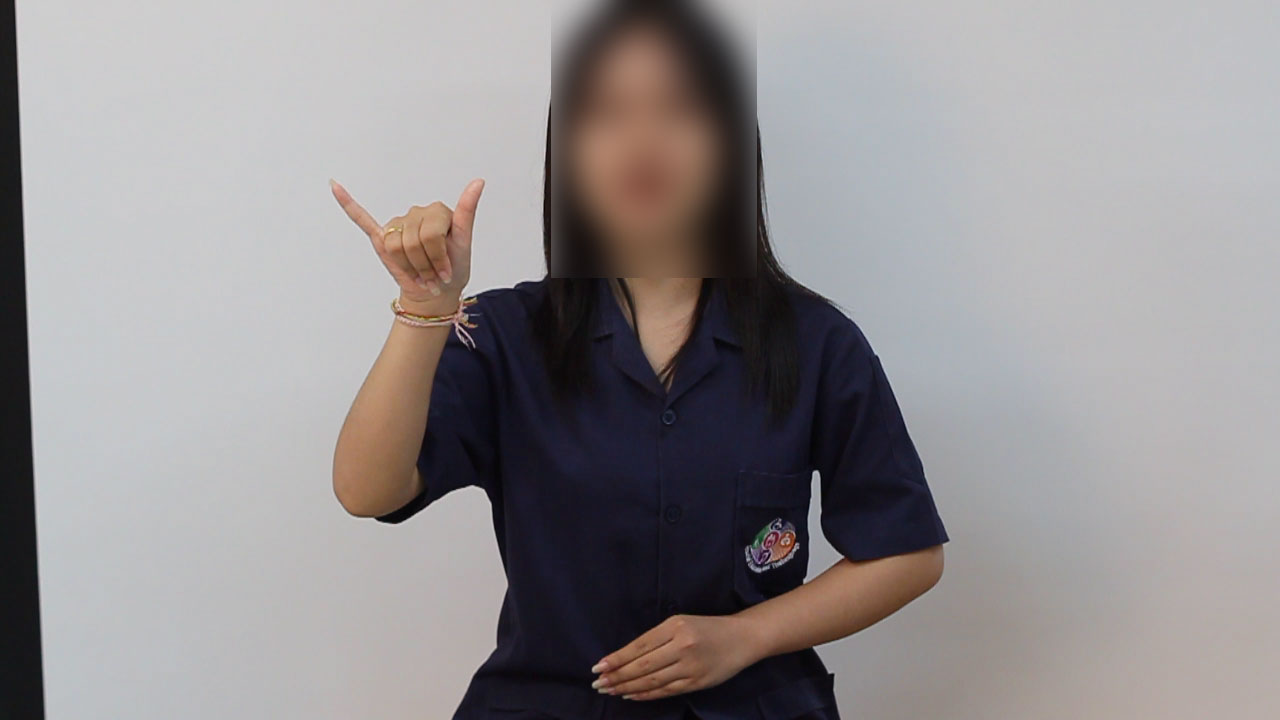yor: (314, 169, 514, 304)
